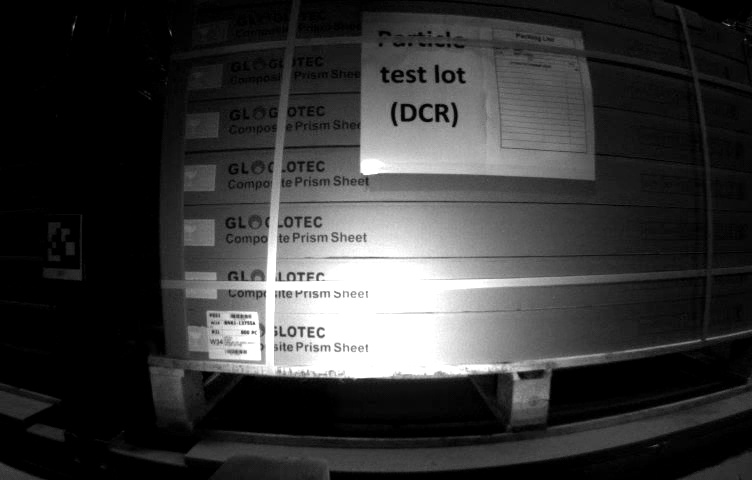True Barcode: (204, 305, 263, 361)
